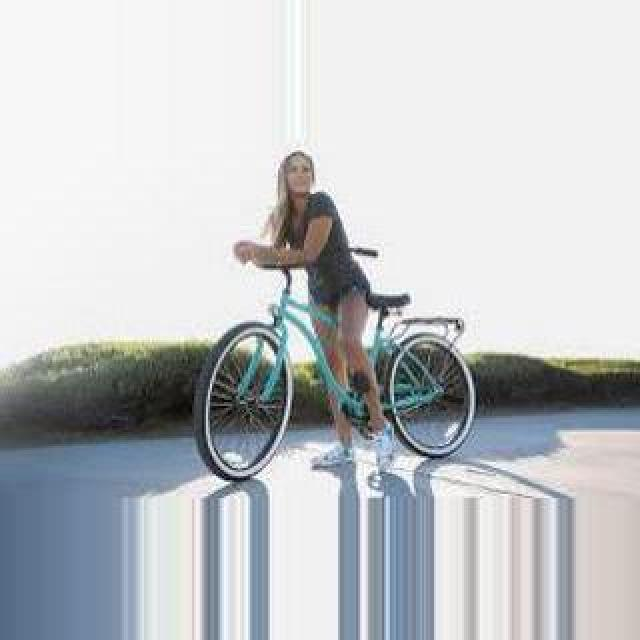MC-Bike: (256, 150, 382, 452)
Person: (192, 246, 478, 486)
